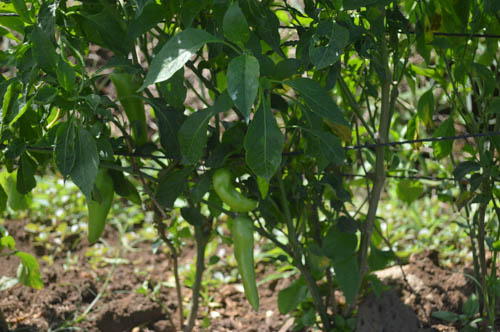ChiliPepper: (234, 217, 264, 313), (111, 71, 150, 140), (84, 173, 117, 245), (213, 169, 258, 212)
